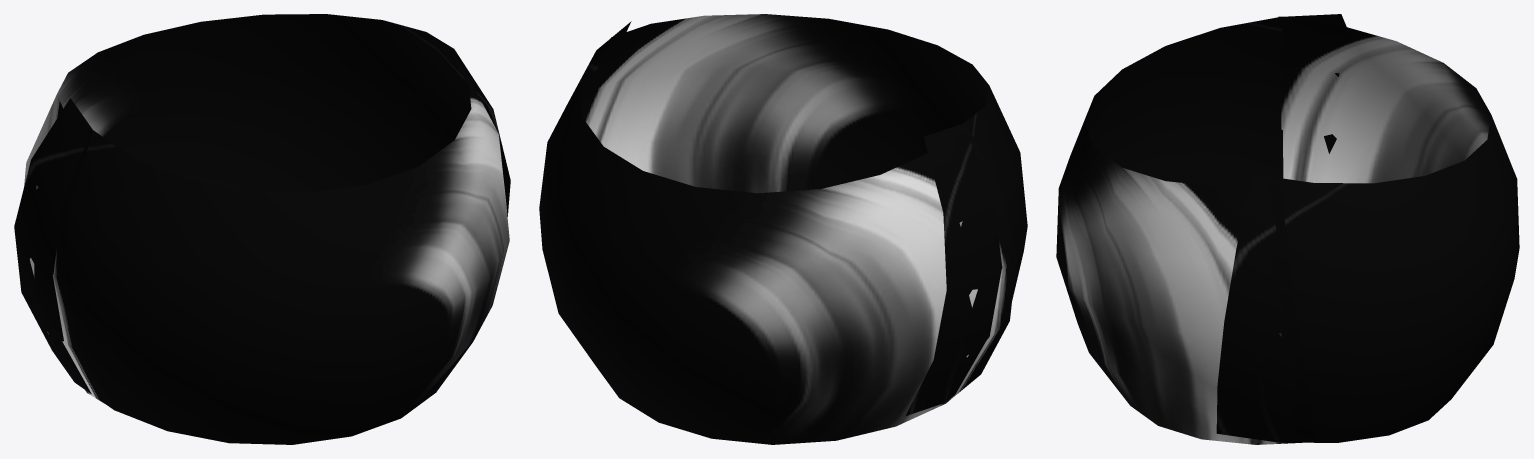
File: 0132_S_FX_XuChu_001.glb
The picture shows the model from 3 angles, left to right: view 1: azimuth 30°, elevation 25°; view 2: azimuth 150°, elevation 25°; view 3: azimuth 270°, elevation 25°; orthographic projection. The views are drawn at different scales.
Size of the model in its own units: 2.2 by 1.43 by 2.09.
Materials: 1 (1 with a texture image).
